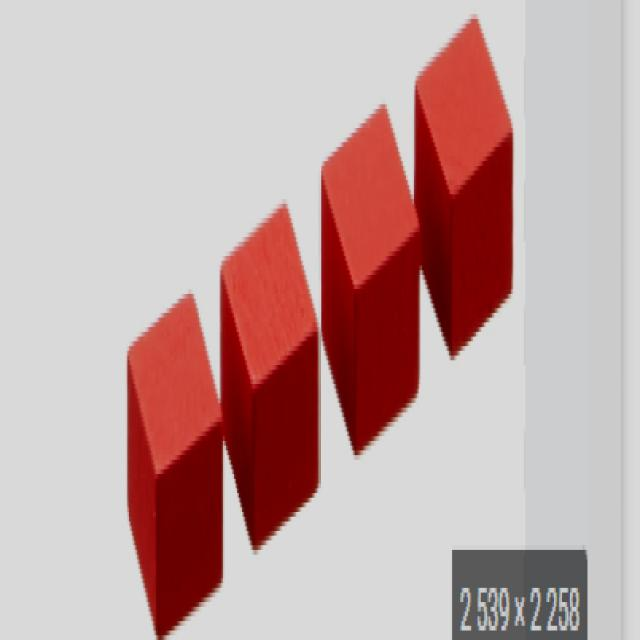red cube: (319, 100, 423, 464), (220, 197, 322, 555), (126, 285, 224, 640), (415, 12, 515, 359)
